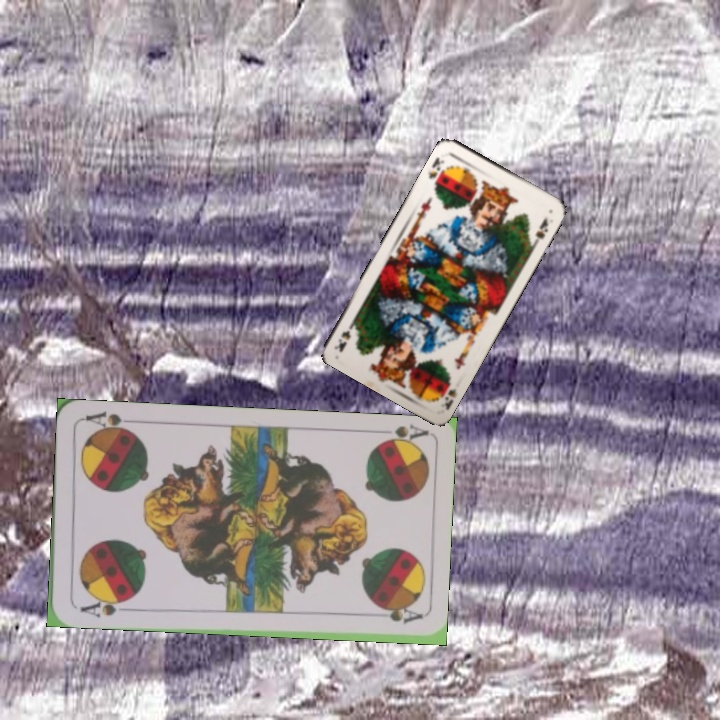SA: (371, 421, 430, 449), (76, 593, 132, 620)
SK: (433, 373, 459, 412), (424, 153, 450, 190)
